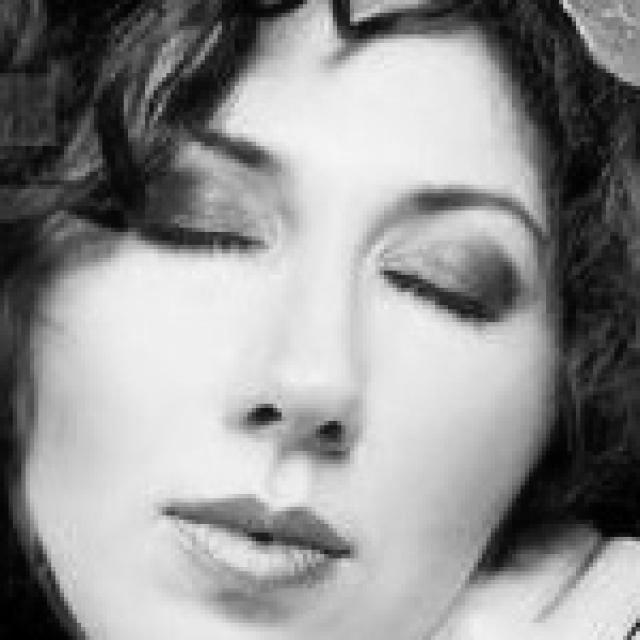real: (26, 19, 590, 618), (107, 122, 545, 338)
